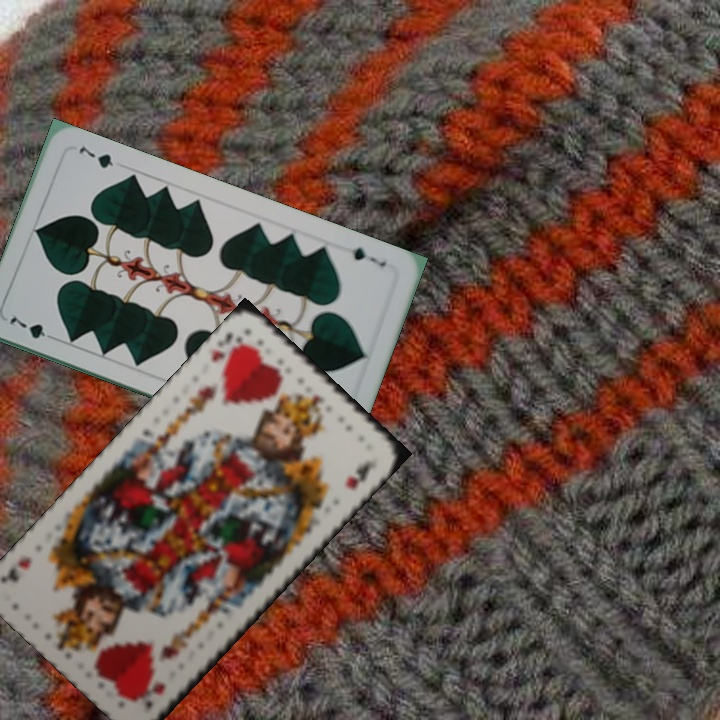G7: (5, 312, 60, 344), (348, 243, 389, 270)
HK: (206, 327, 248, 371), (141, 677, 169, 710)
